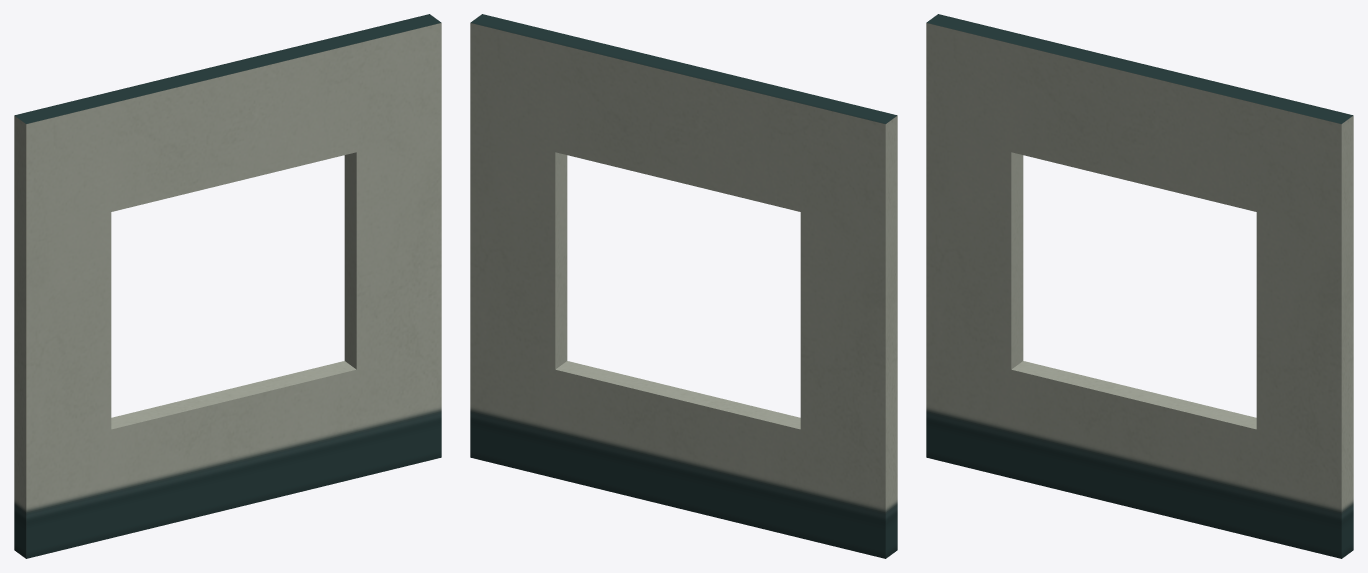
File: Wall_5_C.fbx
3 renders of one model, left to right at view 1: azimuth 30°, elevation 25°; view 2: azimuth 150°, elevation 25°; view 3: azimuth 330°, elevation 25°, orthographic.
Parts seen in each view (by area): view 1: pCube51; view 2: pCube51; view 3: pCube51.
Boxes of the visible parts, box(x1,y1,x2,y2) form: pCube51: box(14, 14, 441, 558); pCube51: box(470, 14, 897, 558); pCube51: box(926, 14, 1353, 558).
Bounding box in the file's own units: 4 × 4 × 0.2.
